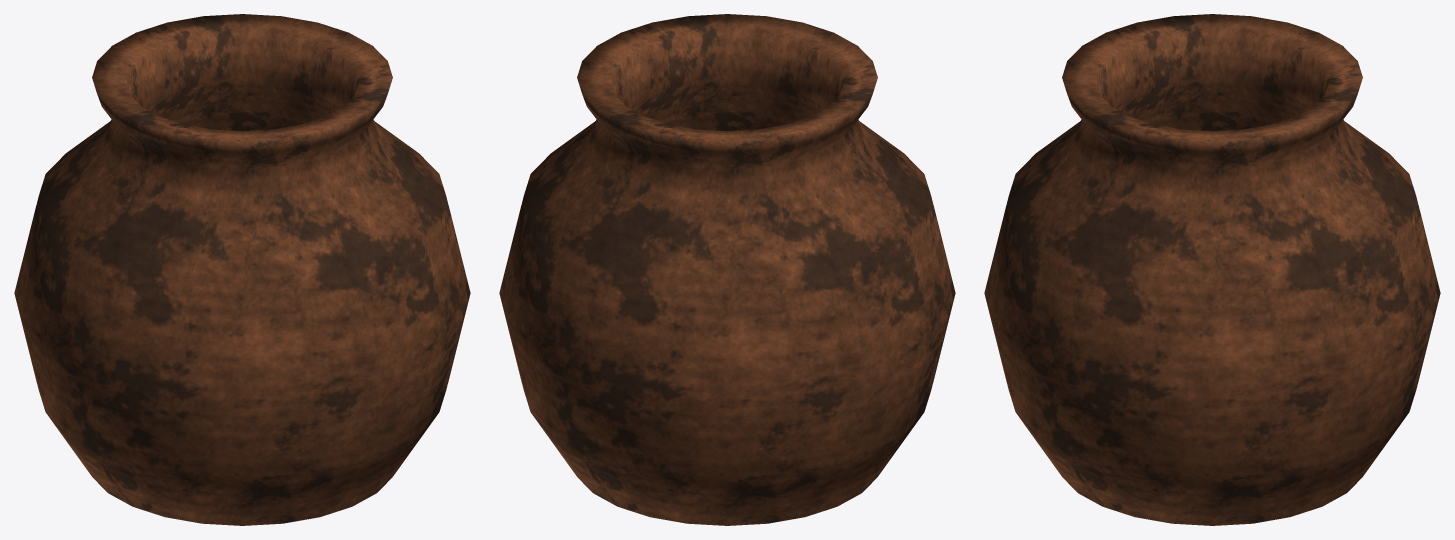
File: Pot_A.glb
The picture shows the model from 3 angles, left to right: view 1: azimuth 30°, elevation 25°; view 2: azimuth 150°, elevation 25°; view 3: azimuth 270°, elevation 25°; orthographic projection.
Visible parts, largest first — view 1: Pot_A__Clay; view 2: Pot_A__Clay; view 3: Pot_A__Clay.
Boxes of the visible parts, x1=… form: Pot_A__Clay: x1=14, y1=14, x2=470, y2=525; Pot_A__Clay: x1=499, y1=14, x2=955, y2=525; Pot_A__Clay: x1=984, y1=14, x2=1440, y2=525.
Size of the model in its own units: 4.7 by 4.45 by 4.7.
Materials: 1 (1 with a texture image).
